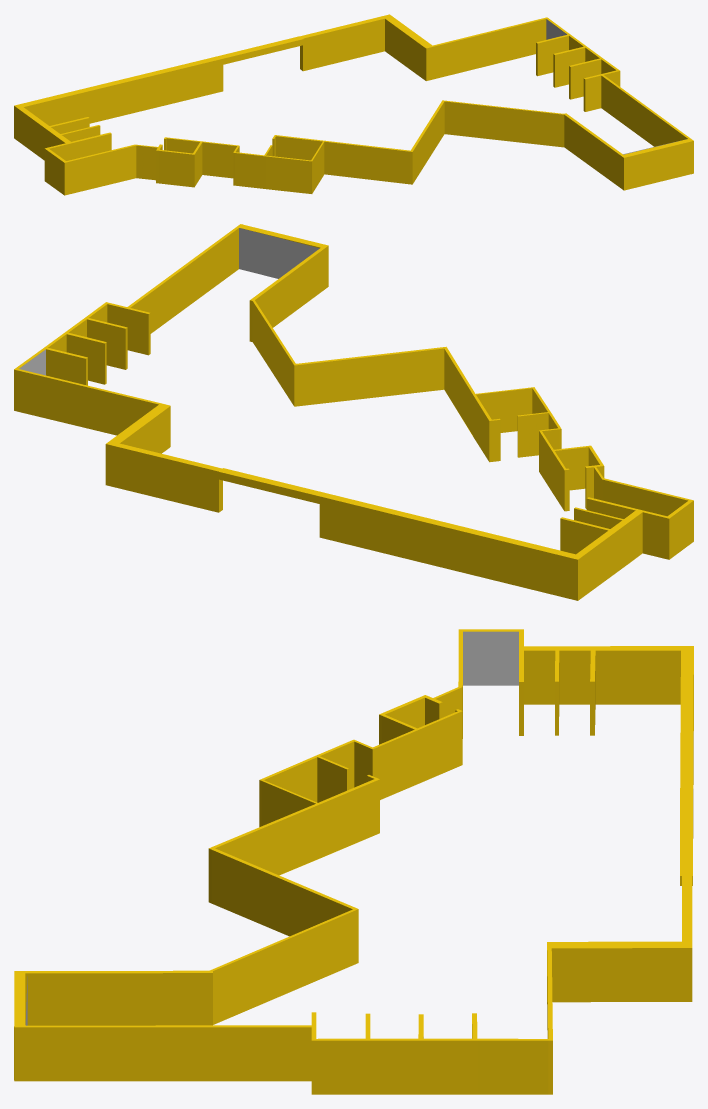
Rendered from 2thwalls.gltf.
3 views of the same model, one above another, from view 1: azimuth 30°, elevation 25°; view 2: azimuth 150°, elevation 25°; view 3: azimuth 270°, elevation 25° (orthographic). The views are drawn at different scales.
Parts seen in each view (by area): view 1: Walls; view 2: Walls; view 3: Walls.
Part boxes in pixels (x1=…): Walls: x1=14, y1=14, x2=693, y2=195; Walls: x1=14, y1=224, x2=693, y2=600; Walls: x1=14, y1=629, x2=693, y2=1094.
Size of the model in its own units: 49.91 by 3.06 by 34.85.
